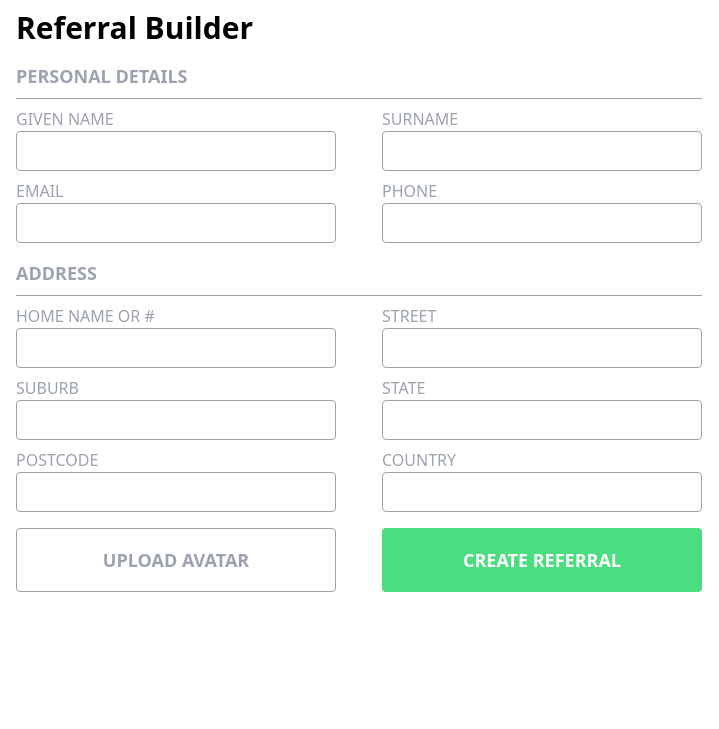
it: Should render error on submit on invalid input
The width and height of the screenshot is (719, 729).
Type "a" into the field with test id "referralForm-input-givenName" at (176, 151), box [16,131,336,171]
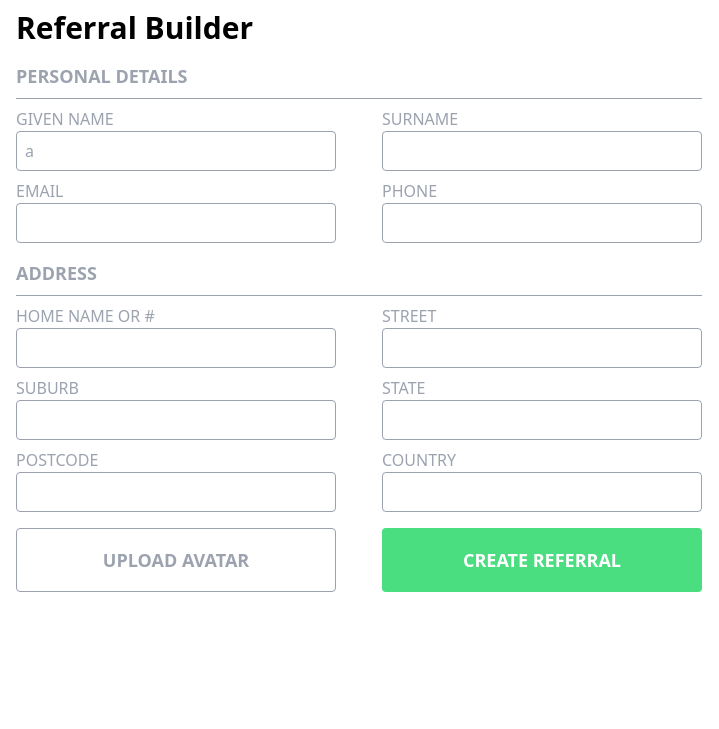
Click the button "Create Referral" at (542, 560), box [382,528,702,592]
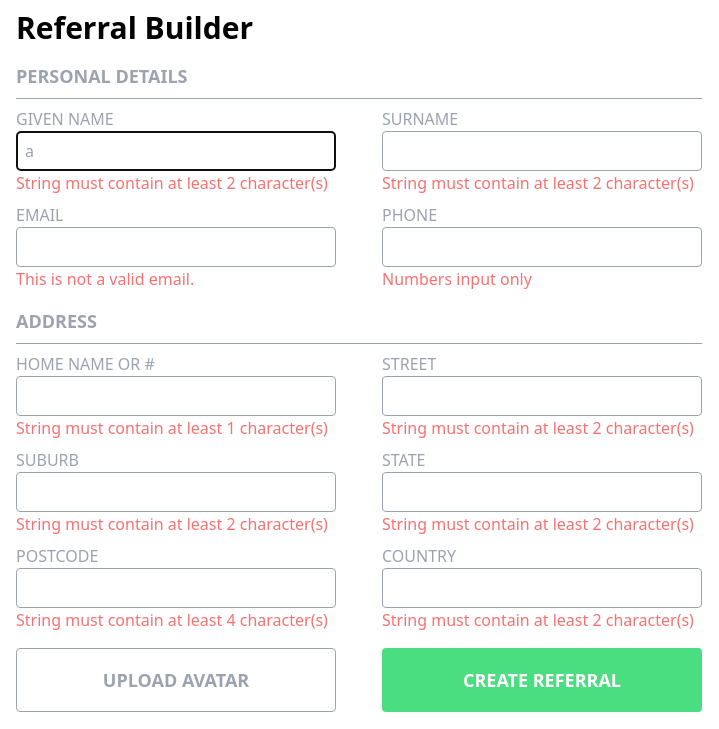
Now the text with test id "referralForm-inputError-givenName" is shown, box [16,171,336,195]
Now the text with test id "referralForm-inputError-givenName" reads "String must contain at least 2 character(s)", box [16,172,328,194]
